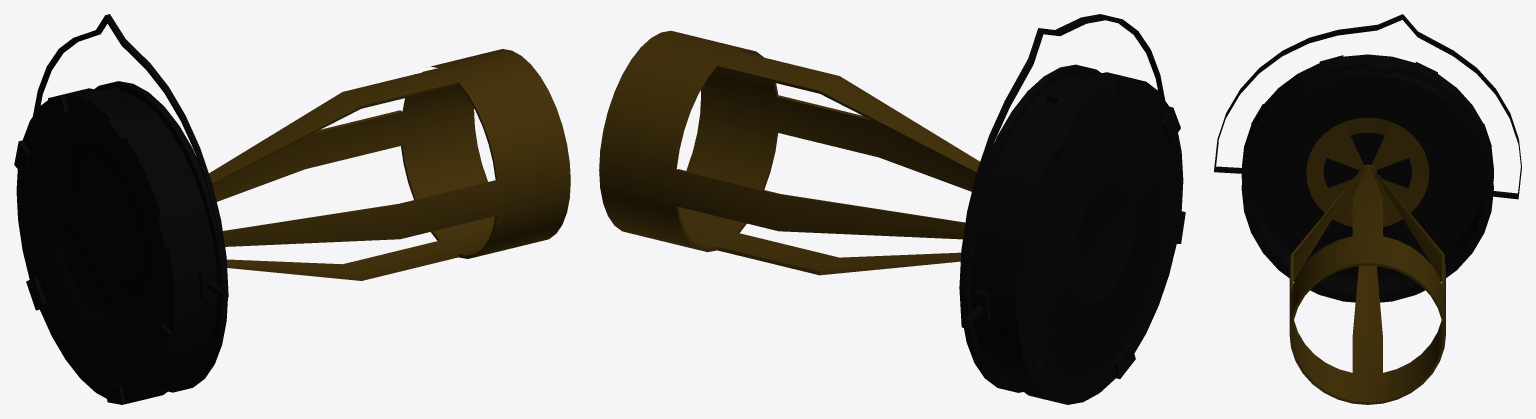
Rendered from Передняя_крышка.fbx.
The picture shows the model from 3 angles, left to right: view 1: azimuth 30°, elevation 25°; view 2: azimuth 150°, elevation 25°; view 3: azimuth 270°, elevation 25°; orthographic projection. The views are drawn at different scales.
Parts seen in each view (by area): view 1: Передняя крышка.001; view 2: Передняя крышка.001; view 3: Передняя крышка.001.
Part boxes in pixels (x1=…): Передняя крышка.001: x1=14, y1=14, x2=570, y2=404; Передняя крышка.001: x1=599, y1=14, x2=1185, y2=404; Передняя крышка.001: x1=1214, y1=14, x2=1521, y2=404.
Size of the model in its own units: 179 by 141 by 140.
Materials: 1 (1 with a texture image).
